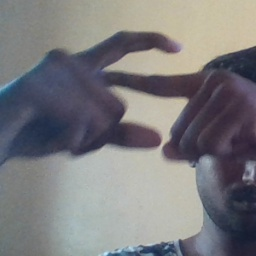E: (68, 21, 191, 155)
